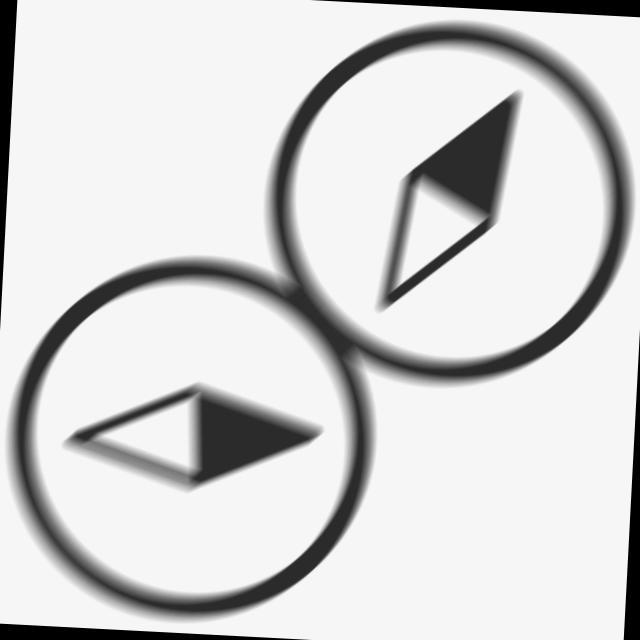compass: (1, 234, 403, 637), (244, 3, 640, 406)
